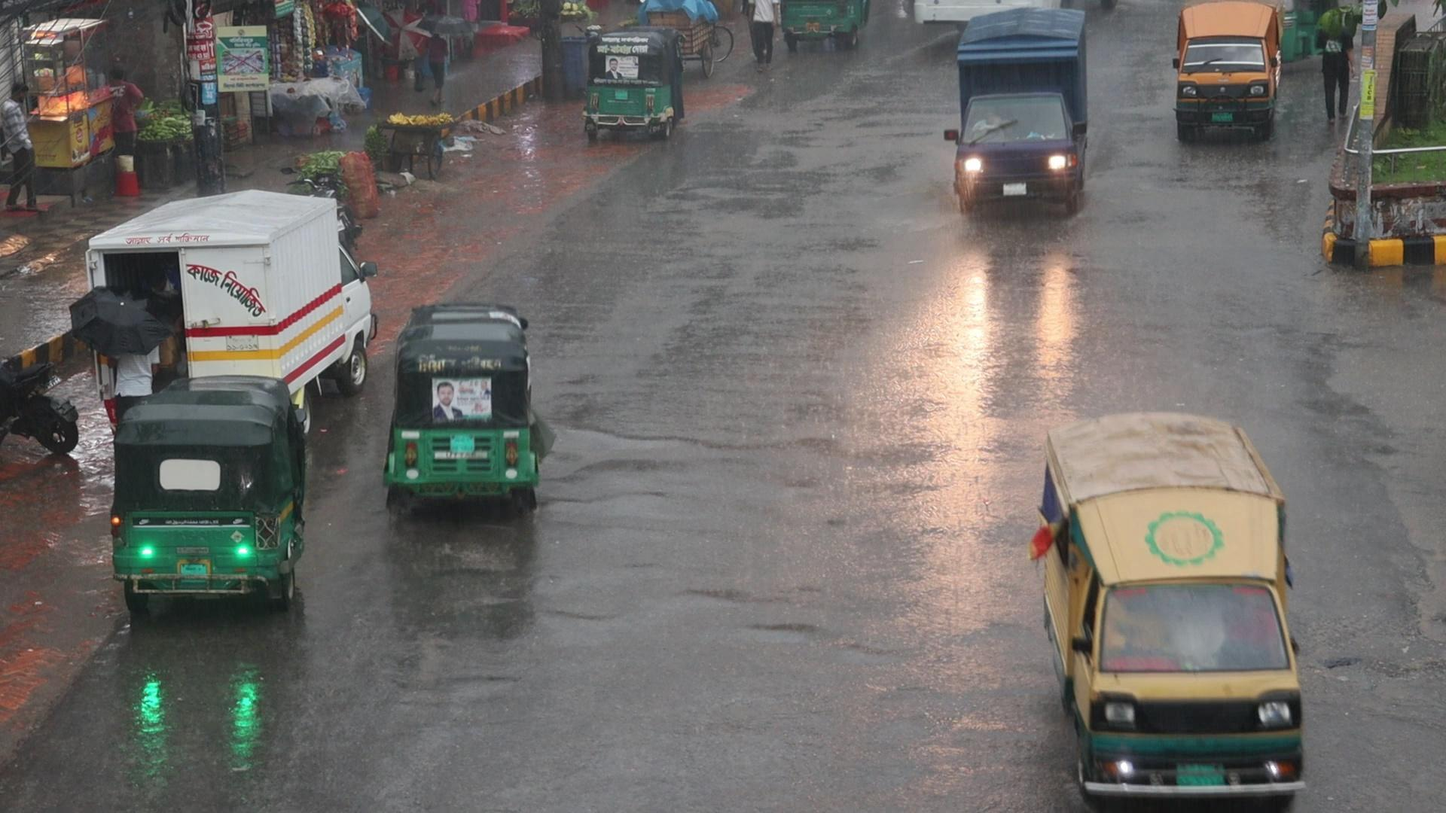Truck: (1040, 402, 1317, 813), (946, 3, 1095, 224), (1168, 5, 1290, 138)
